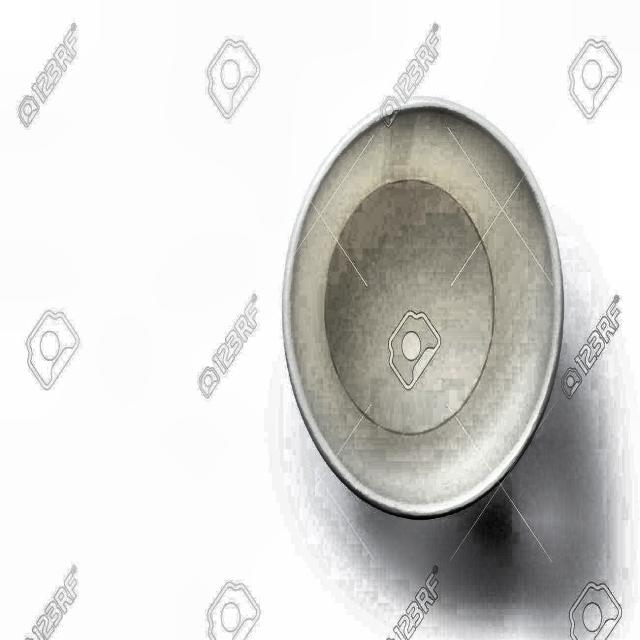Cup: (272, 94, 577, 533)
